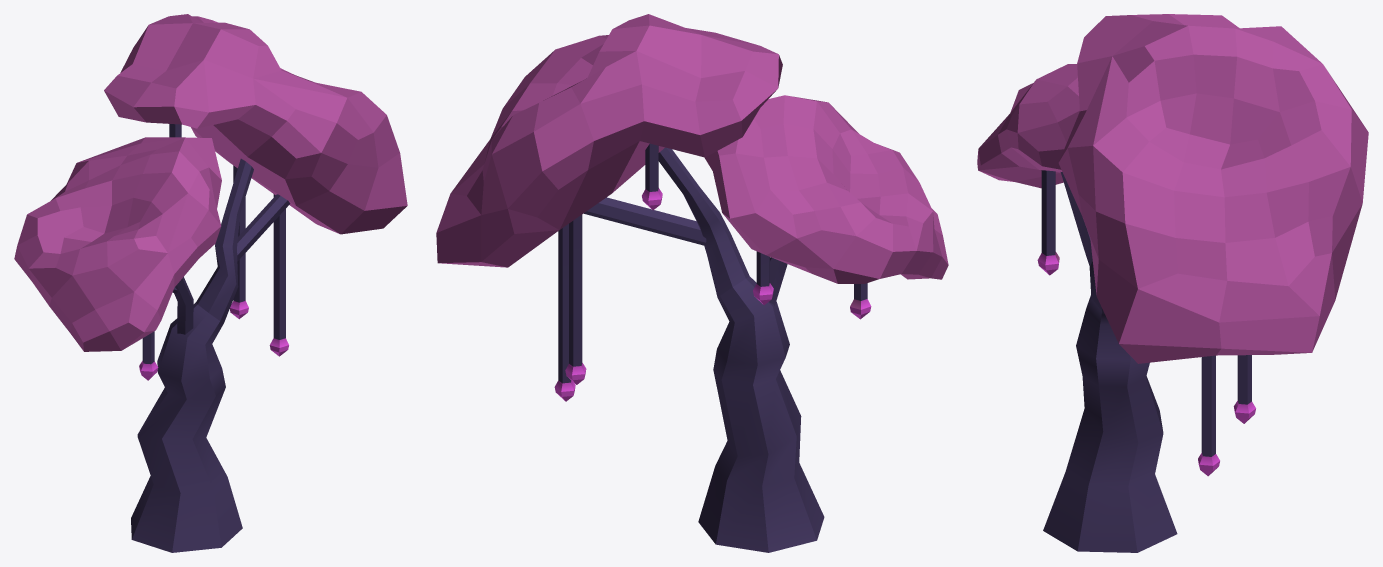
Rendered from Tree_2.fbx.
The picture shows the model from 3 angles, left to right: view 1: azimuth 30°, elevation 25°; view 2: azimuth 150°, elevation 25°; view 3: azimuth 270°, elevation 25°; orthographic projection. The views are drawn at different scales.
Visible parts, largest first — view 1: Tree_2; view 2: Tree_2; view 3: Tree_2.
Part boxes in pixels (x1,y1,x2,y2): Tree_2: (14, 14, 407, 552); Tree_2: (436, 14, 948, 552); Tree_2: (977, 14, 1368, 552).
Size of the model in its own units: 2.93 by 3.38 by 2.22.
